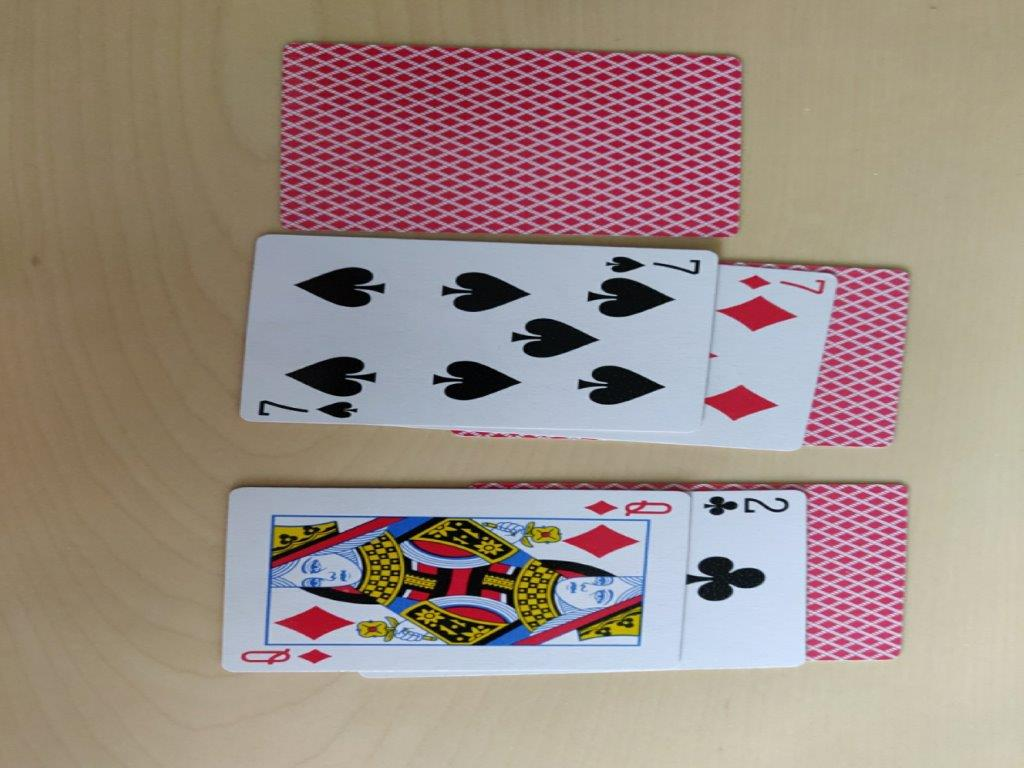2C: (686, 488, 807, 669)
7D: (716, 268, 827, 455)
7S: (253, 235, 708, 440)
BACK: (280, 37, 743, 238), (803, 480, 910, 661), (826, 265, 913, 449)
QD: (230, 487, 689, 674)
